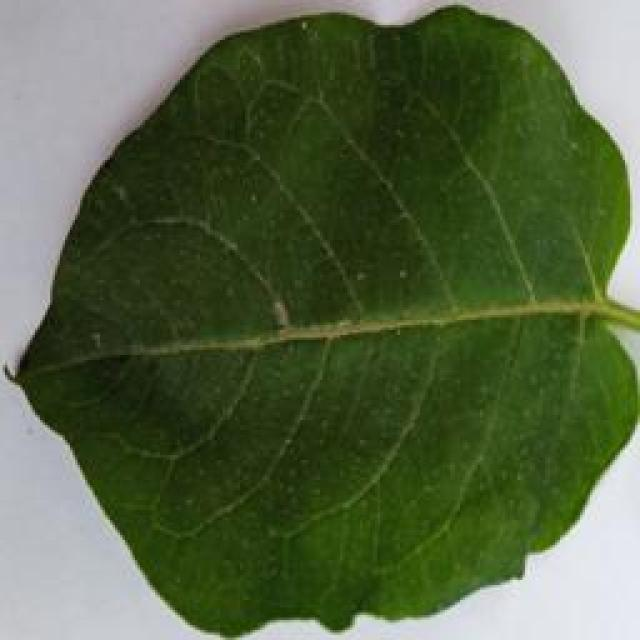Potato_Healthy: (4, 2, 618, 625)
